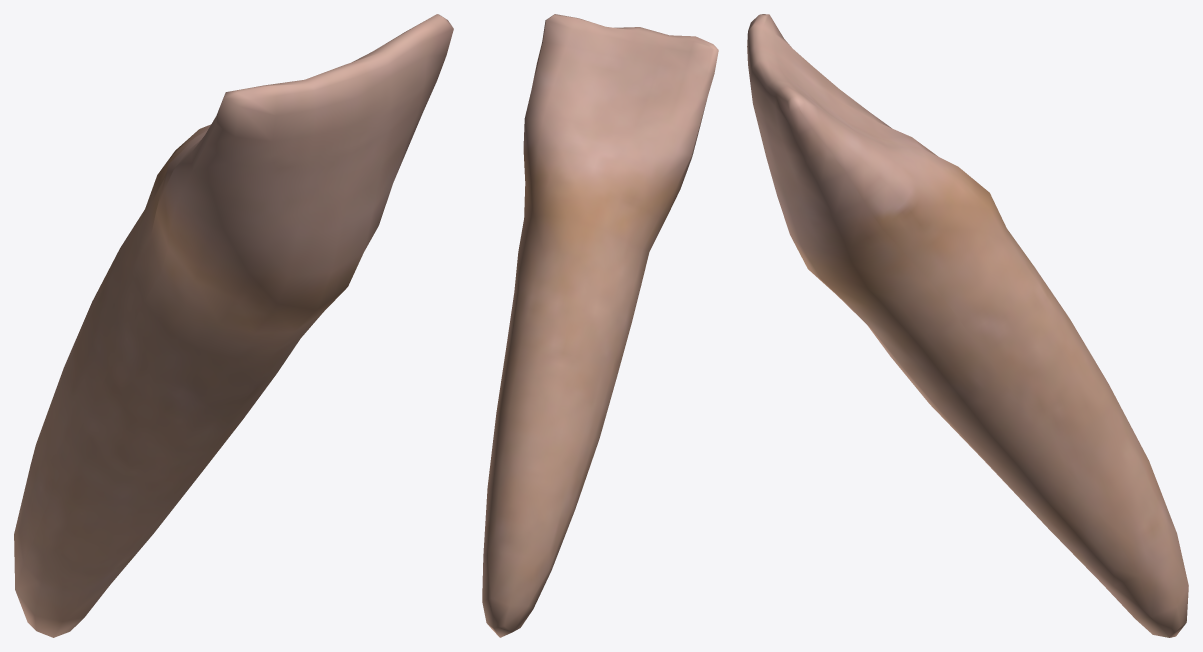
3 renders of one model, left to right at view 1: azimuth 30°, elevation 25°; view 2: azimuth 150°, elevation 25°; view 3: azimuth 270°, elevation 25°, orthographic. The views are drawn at different scales.
Parts seen in each view (by area): view 1: t_31; view 2: t_31; view 3: t_31.
Part boxes in pixels (x1=…): t_31: x1=14, y1=14, x2=453, y2=637; t_31: x1=482, y1=14, x2=718, y2=637; t_31: x1=747, y1=14, x2=1188, y2=637.
Size of the model in its own units: 0.0566 by 0.1645 by 0.1096.
Materials: 1 (1 with a texture image).
